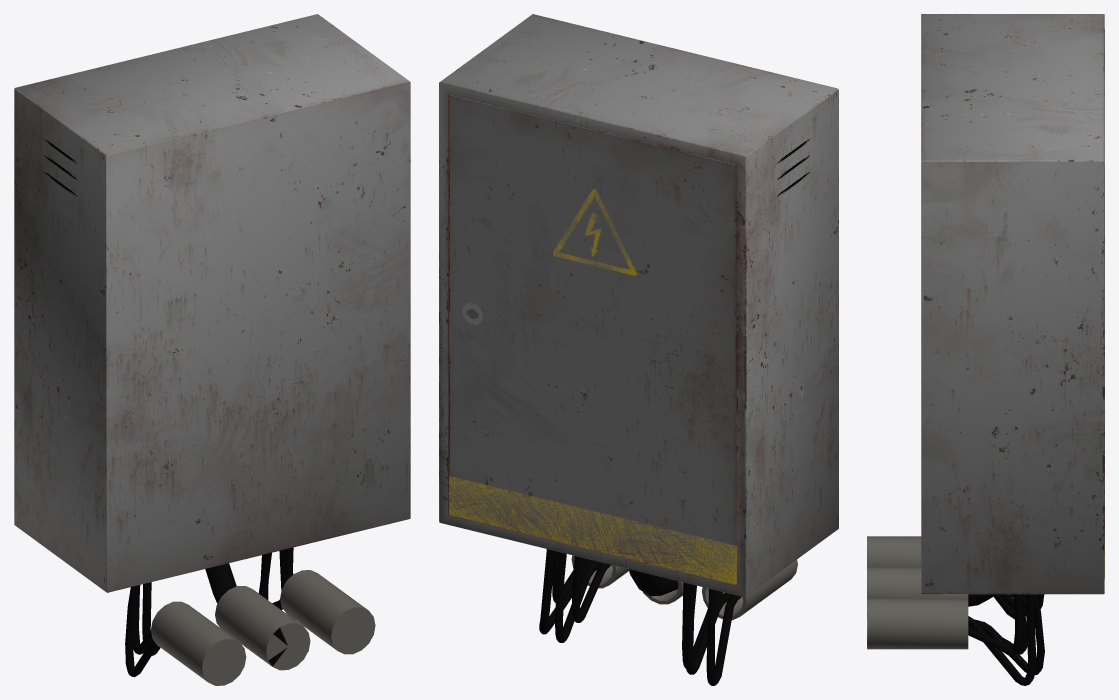
Rendered from ElectricalBox.fbx.
3 views of the same model, side by side, from view 1: azimuth 30°, elevation 25°; view 2: azimuth 150°, elevation 25°; view 3: azimuth 270°, elevation 25° (orthographic).
Visible parts, largest first — view 1: Polygon_Reduction; view 2: Polygon_Reduction; view 3: Polygon_Reduction.
Boxes of the visible parts, x1,y1,x2,y2 form: Polygon_Reduction: (14, 14, 410, 685); Polygon_Reduction: (439, 14, 838, 685); Polygon_Reduction: (867, 14, 1104, 685).
Size of the model in its own units: 44.89 by 80.88 by 30.62.
Materials: 1 (1 with a texture image).
